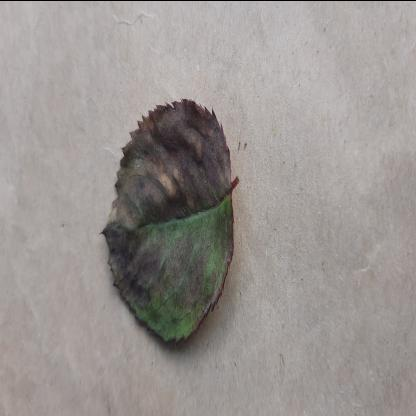powdery-mildew: (101, 80, 239, 354)
